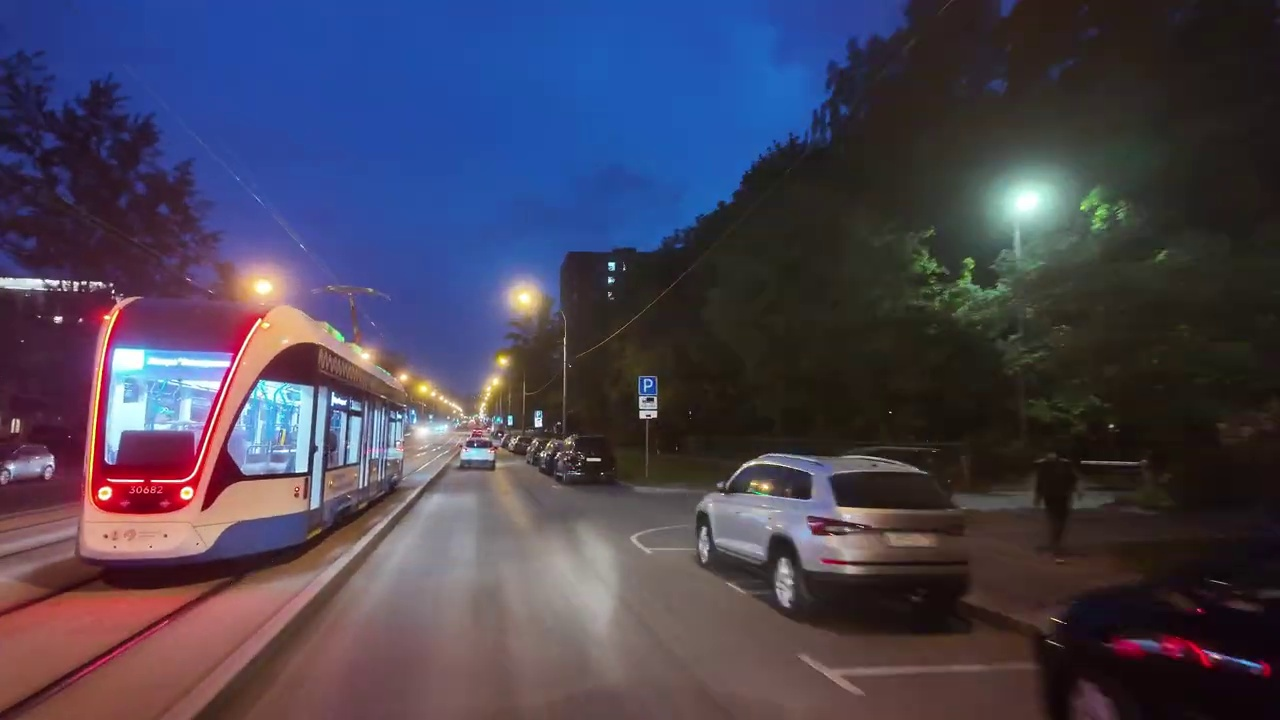acesa: (509, 283, 545, 318), (242, 272, 280, 303)
